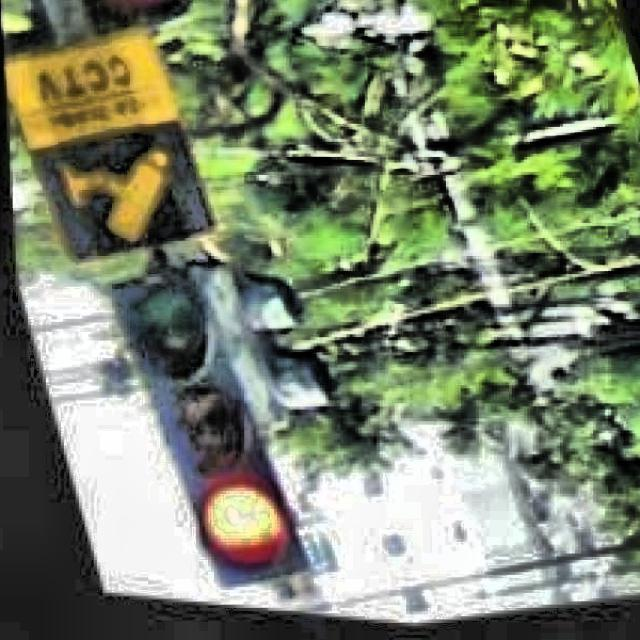red: (110, 263, 306, 582)
